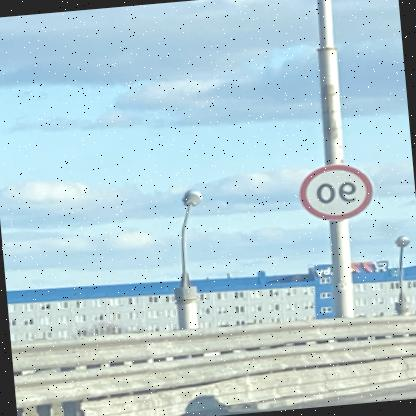speedlimit: (300, 160, 378, 222)
